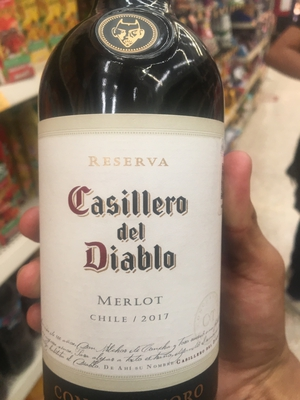casillero del diablo merlot: (35, 25, 227, 400)
